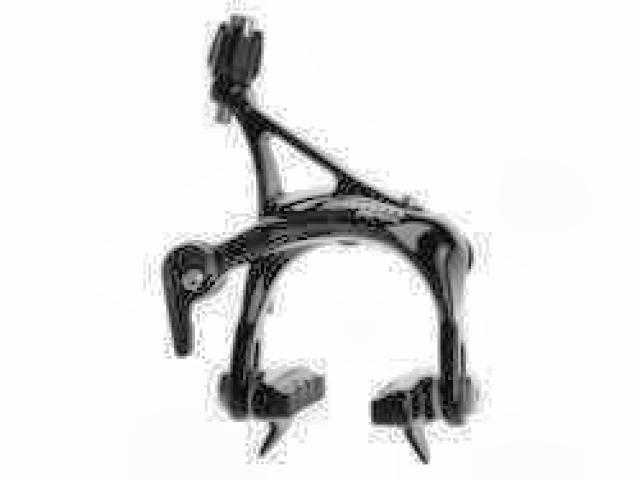rim_brake: (162, 20, 479, 465)
